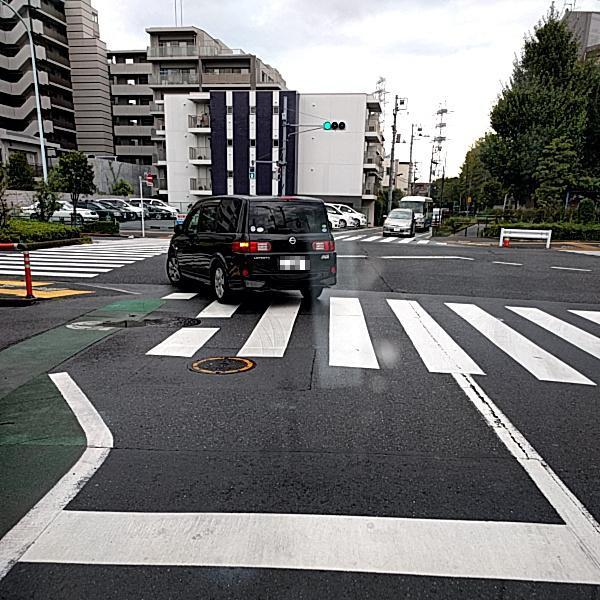D50: (186, 354, 256, 374), (141, 313, 201, 328)
